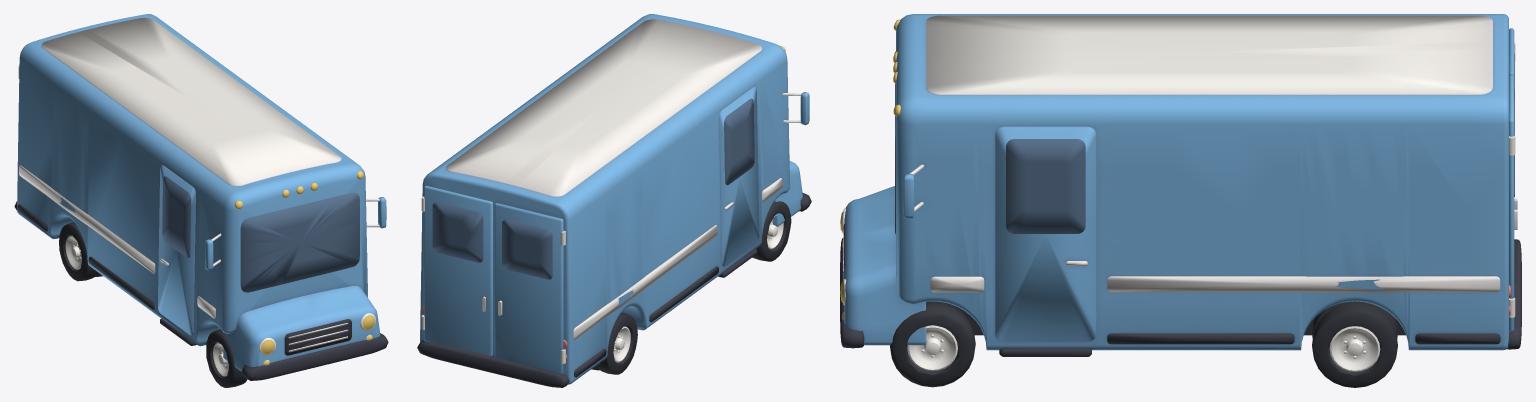
The model's file is veh_truck.glb.
The picture shows the model from 3 angles, left to right: view 1: azimuth 30°, elevation 25°; view 2: azimuth 150°, elevation 25°; view 3: azimuth 270°, elevation 25°; orthographic projection. The views are drawn at different scales.
Parts seen in each view (by area): view 1: delivery-truck_body, delivery-truck_rear_windows, delivery-truck_wheel_fl, delivery-truck_headlights; view 2: delivery-truck_body, delivery-truck_rear_leaf, delivery-truck_rear_windows, delivery-truck_wheel_fl, delivery-truck_headlights; view 3: delivery-truck_body, delivery-truck_wheel_fl, delivery-truck_rear_windows, delivery-truck_headlights, delivery-truck_rear_leaf.
Boxes of the visible parts, <box> form: delivery-truck_body: <box>14,14,388,380</box>; delivery-truck_rear_windows: <box>162,176,359,292</box>; delivery-truck_wheel_fl: <box>59,222,247,387</box>; delivery-truck_headlights: <box>65,171,375,376</box>; delivery-truck_body: <box>417,14,811,387</box>; delivery-truck_rear_leaf: <box>421,185,492,355</box>; delivery-truck_rear_windows: <box>502,98,754,279</box>; delivery-truck_wheel_fl: <box>591,201,791,374</box>; delivery-truck_headlights: <box>613,46,785,362</box>; delivery-truck_body: <box>840,14,1521,356</box>; delivery-truck_wheel_fl: <box>890,301,1397,387</box>; delivery-truck_rear_windows: <box>895,51,1514,234</box>; delivery-truck_headlights: <box>840,19,1380,372</box>; delivery-truck_rear_leaf: <box>1509,75,1517,331</box>.
Size of the model in its own units: 2.77 by 2.96 by 6.33.
Materials: 7 (2 with a texture image).
